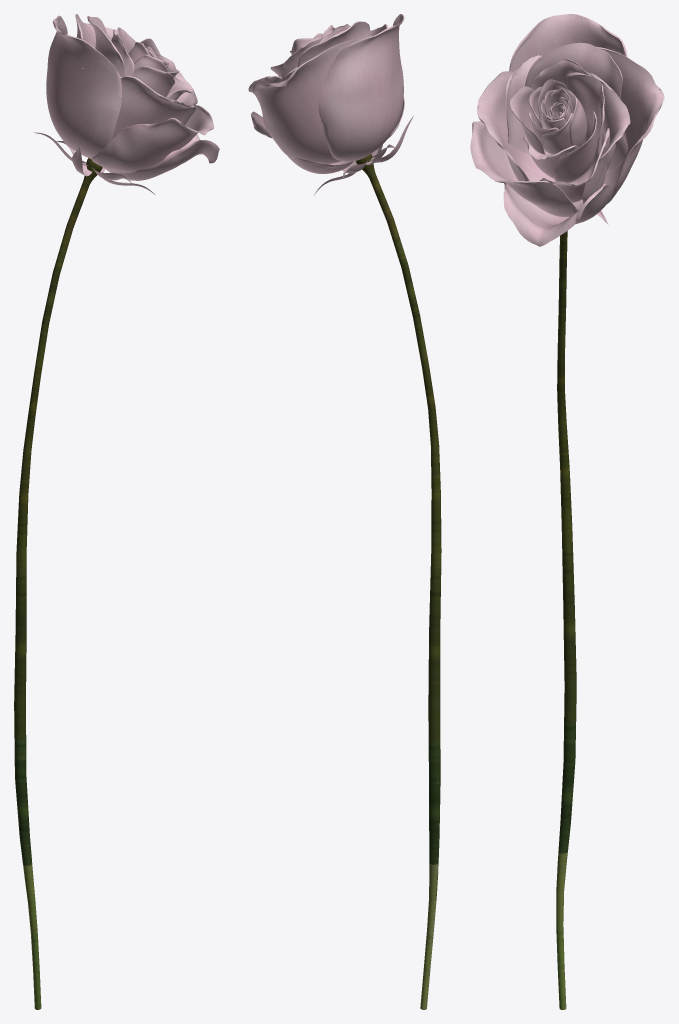
File: animate_white.glb
3 renders of one model, left to right at view 1: azimuth 30°, elevation 25°; view 2: azimuth 150°, elevation 25°; view 3: azimuth 270°, elevation 25°, orthographic. The views are drawn at different scales.
Visible parts, largest first — view 1: animatewhite, Subdivision_Surface.112, Subdivision_Surface.113, Subdivision_Surface.106, Subdivision_Surface.114, Subdivision_Surface.109, Subdivision_Surface.102, Subdivision_Surface.111; view 2: Subdivision_Surface.112, animatewhite, Subdivision_Surface.111, Subdivision_Surface.109, Subdivision_Surface.114; view 3: animatewhite, Subdivision_Surface.111, Subdivision_Surface.113, Subdivision_Surface.112, Subdivision_Surface.114, Subdivision_Surface.109, Subdivision_Surface.106, Subdivision_Surface.108, Subdivision_Surface.105, Subdivision_Surface.104, Subdivision_Surface.110, Subdivision_Surface.102 (+6 smaller).
Part boxes in pixels (<box>): animatewhite: <box>14,158,102,1009</box>; Subdivision_Surface.112: <box>46,15,121,159</box>; Subdivision_Surface.113: <box>91,105,214,172</box>; Subdivision_Surface.106: <box>112,76,195,138</box>; Subdivision_Surface.114: <box>104,134,219,180</box>; Subdivision_Surface.109: <box>87,16,124,76</box>; Subdivision_Surface.102: <box>133,66,174,97</box>; Subdivision_Surface.111: <box>75,14,117,48</box>; Subdivision_Surface.112: <box>318,14,404,162</box>; animatewhite: <box>355,154,441,1009</box>; Subdivision_Surface.111: <box>252,39,358,164</box>; Subdivision_Surface.109: <box>297,21,371,67</box>; Subdivision_Surface.114: <box>251,111,353,173</box>; animatewhite: <box>556,231,576,1009</box>; Subdivision_Surface.111: <box>596,46,664,204</box>; Subdivision_Surface.113: <box>470,121,581,217</box>; Subdivision_Surface.112: <box>509,14,627,71</box>; Subdivision_Surface.114: <box>503,183,614,246</box>; Subdivision_Surface.109: <box>525,42,628,174</box>; Subdivision_Surface.106: <box>477,71,555,181</box>; Subdivision_Surface.108: <box>580,72,630,205</box>; Subdivision_Surface.105: <box>563,72,604,169</box>; Subdivision_Surface.104: <box>554,111,596,182</box>; Subdivision_Surface.110: <box>505,55,542,155</box>; Subdivision_Surface.102: <box>509,86,550,154</box>.
Bounding box in the file's own units: 27.45 × 140 × 24.47.
Materials: 2 (2 with a texture image).
